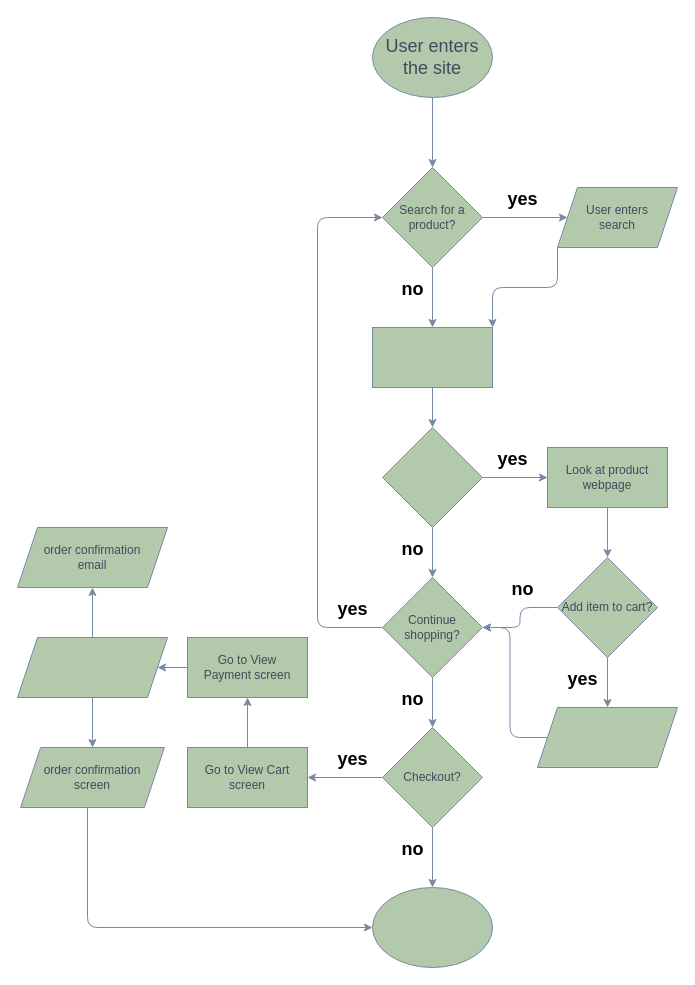
Image size: 695x985. Some labels were removed from this diagram. Each missing label, with the box of its shape:
Item added to cart confirmation: (536, 706, 678, 768)
Look over products: (372, 326, 492, 388)
user enters payment information: (16, 636, 168, 698)
User leaves the site: (372, 886, 492, 968)
View a specific product?: (382, 426, 482, 528)
